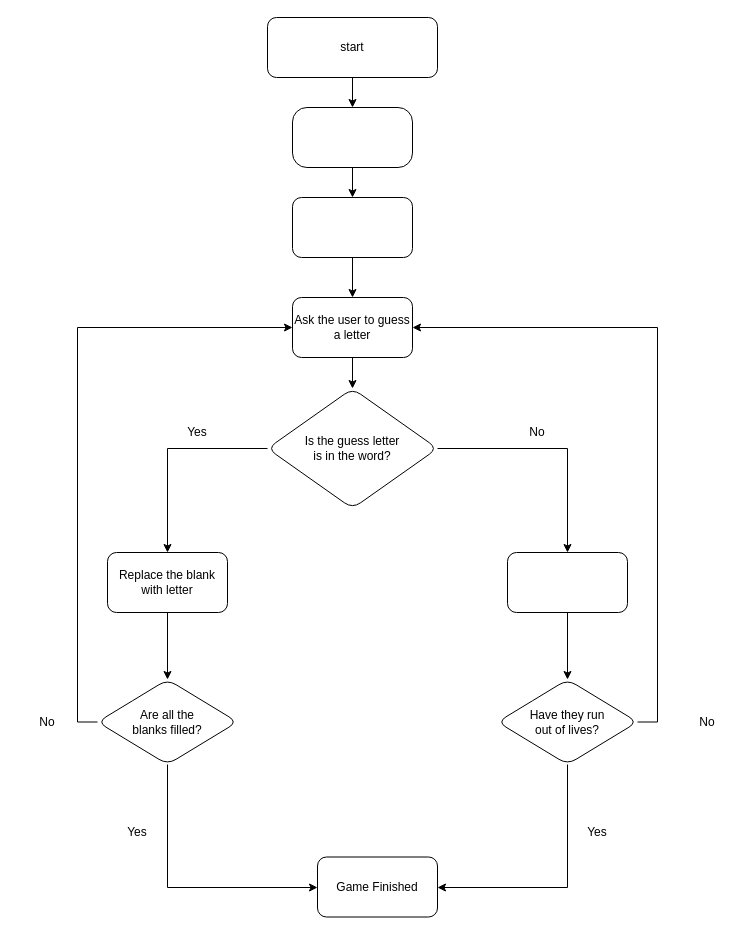
This 754x935 diagram has some shape labels left out. Each missing label, with the centre of its shape:
"Generate a random word" belongs at [352,137].
"Generate as many blank place as in word" belongs at [352,227].
"Lose a life" belongs at [567,582].
